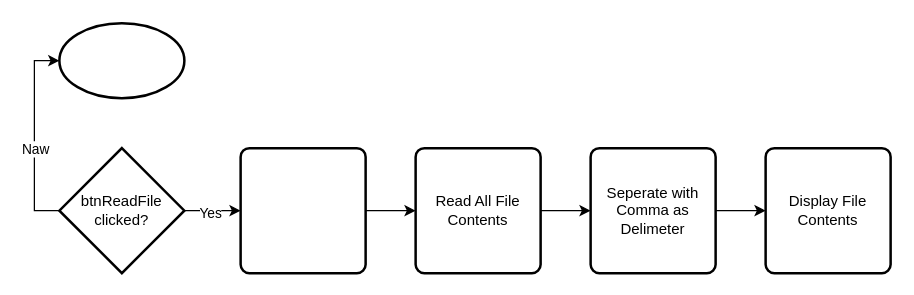
Some shapes in this 914 by 295 pixel diagram are drawn without their labels. The centre of each missing label's shape, as x and y in pixels:
Prompt User to Select File: [302,210]
Start: [121,60]
